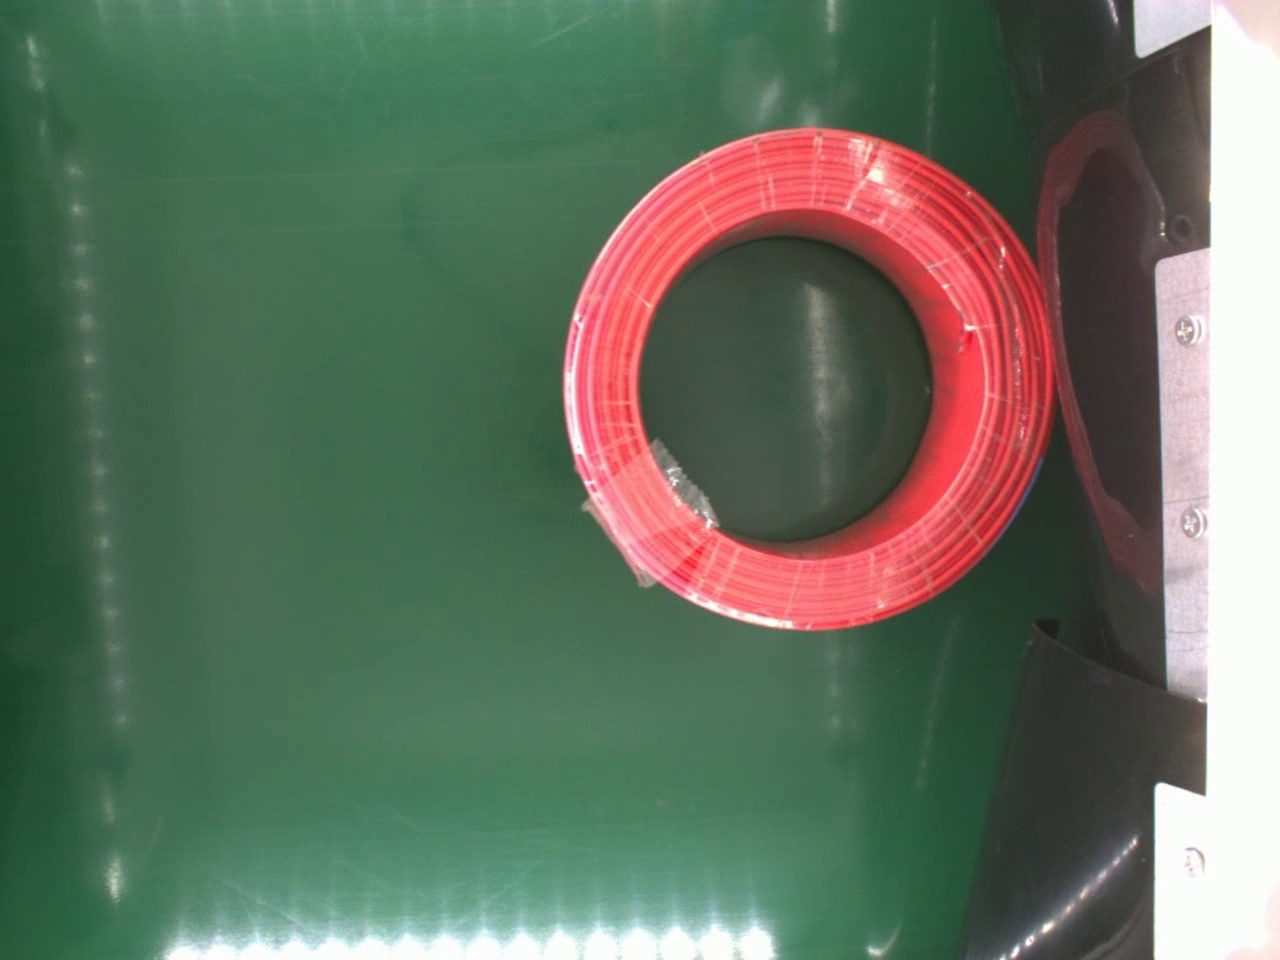red: (553, 124, 1058, 631)
